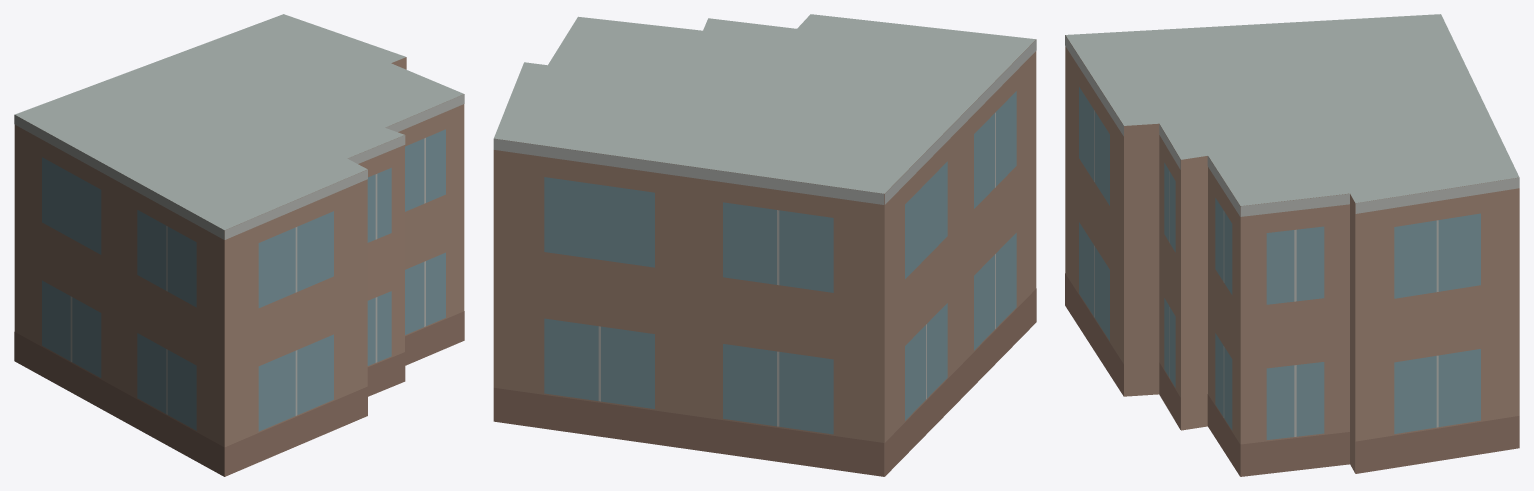
Rendered from survey-upis-32463406.glb.
3 renders of one model, left to right at view 1: azimuth 30°, elevation 25°; view 2: azimuth 150°, elevation 25°; view 3: azimuth 270°, elevation 25°, orthographic. The views are drawn at different scales.
Parts seen in each view (by area): view 1: survey-upis-32463406.tmp; view 2: survey-upis-32463406.tmp; view 3: survey-upis-32463406.tmp.
Part boxes in pixels (box(x1,y1,x2,y2)): survey-upis-32463406.tmp: box(14, 14, 464, 476); survey-upis-32463406.tmp: box(493, 14, 1036, 476); survey-upis-32463406.tmp: box(1065, 14, 1519, 476).
Size of the model in its own units: 9.29 by 6.1 by 9.29.
